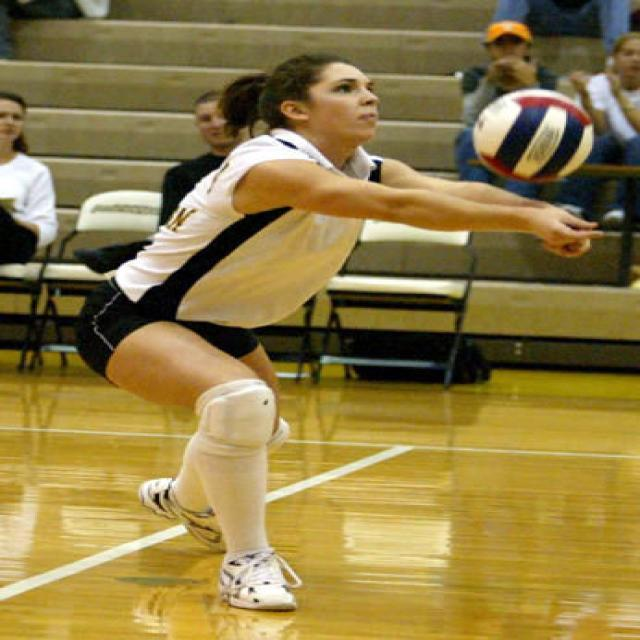volleyball: (472, 90, 595, 182)
